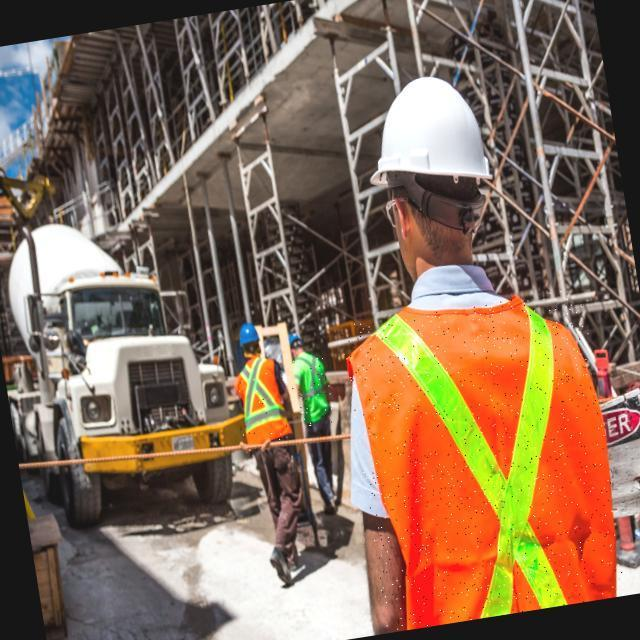helmet: (373, 65, 506, 196), (231, 317, 263, 352)
vest: (339, 288, 630, 634), (231, 357, 298, 454), (288, 356, 336, 432)
